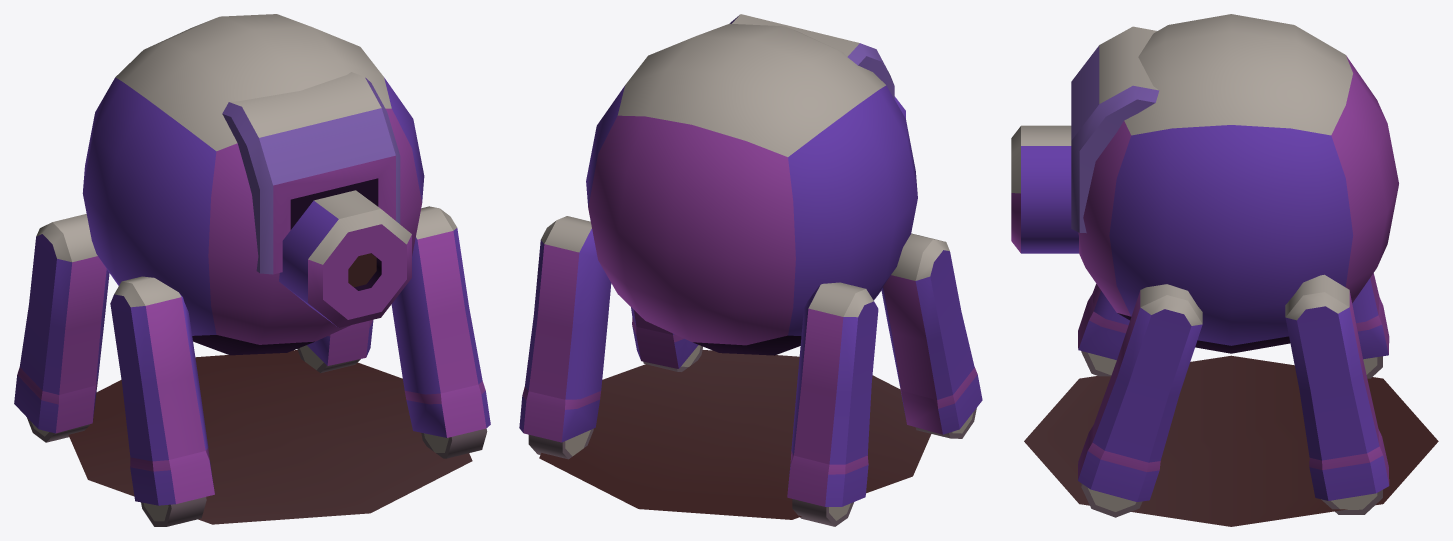
Rendered from NeoTankMesh.BlackHole.glb.
3 views of the same model, side by side, from view 1: azimuth 30°, elevation 25°; view 2: azimuth 150°, elevation 25°; view 3: azimuth 270°, elevation 25° (orthographic). The views are drawn at different scales.
Visible parts, largest first — view 1: NeoTankMesh.BlackHole; view 2: NeoTankMesh.BlackHole; view 3: NeoTankMesh.BlackHole.
Boxes of the visible parts, <box> form: NeoTankMesh.BlackHole: <box>14,14,490,526</box>; NeoTankMesh.BlackHole: <box>519,14,982,526</box>; NeoTankMesh.BlackHole: <box>1011,14,1438,526</box>.
Bounding box in the file's own units: 2.03 × 2.26 × 2.14.
1 material, 1 textured.
